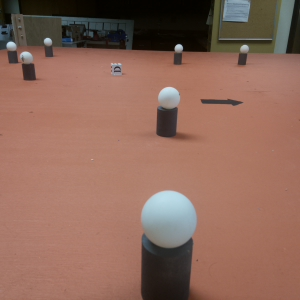blockD: (110, 62, 123, 77)
corner: (11, 14, 27, 48)
obstacle: (140, 188, 196, 300), (156, 85, 179, 138), (20, 52, 35, 80), (238, 44, 248, 68), (7, 42, 17, 63), (174, 43, 183, 66), (43, 39, 53, 59)
start: (199, 96, 243, 107)
